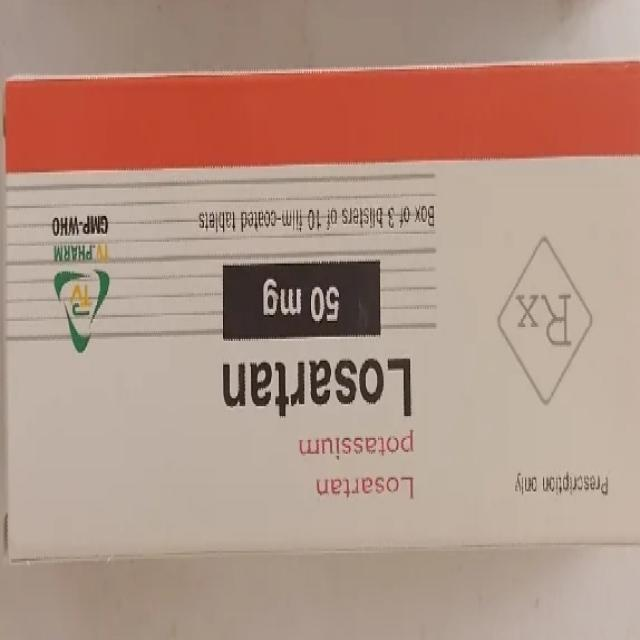drug-name: (212, 354, 416, 421)
